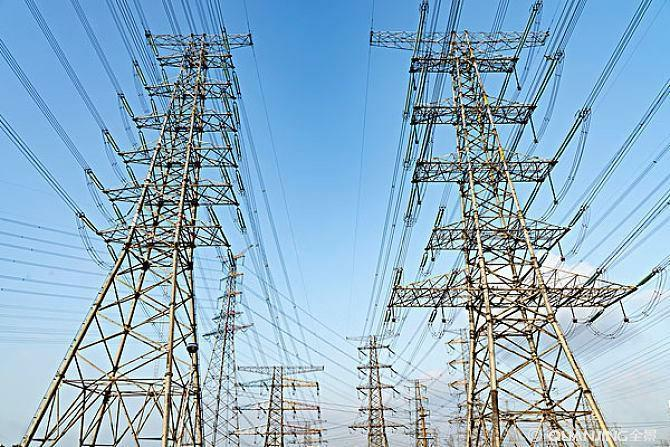power_tower: (361, 21, 632, 447), (21, 28, 260, 447), (191, 232, 256, 442), (236, 358, 327, 447), (351, 328, 398, 447)
